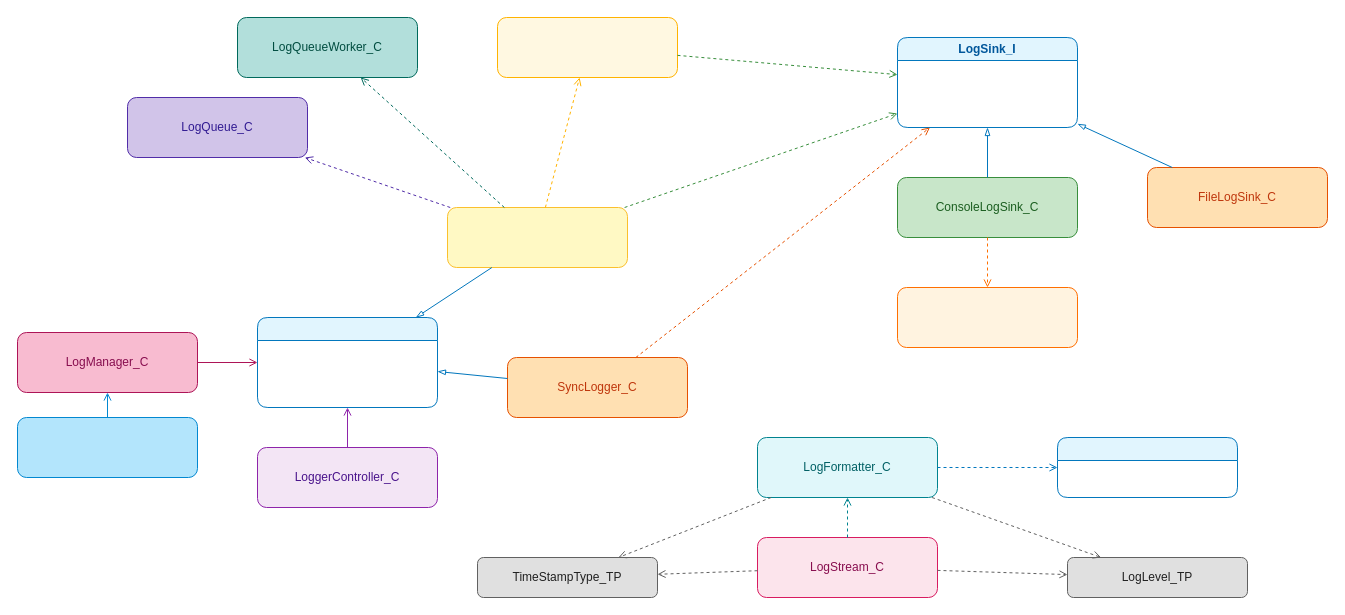
Image size: 1345x615. Some labels were removed from this diagram. Here are the shapes that lost their labels. From the top down, the centre of each, then its label:
At (x=587, y=47): "LogDispatcher_C".
At (x=537, y=237): "AsyncLogger_C".
At (x=987, y=317): "TextColor_C".
At (x=347, y=362): "Logger_I".
At (x=107, y=447): "Logging_C".
At (x=1147, y=467): "TimeProvider_I".
